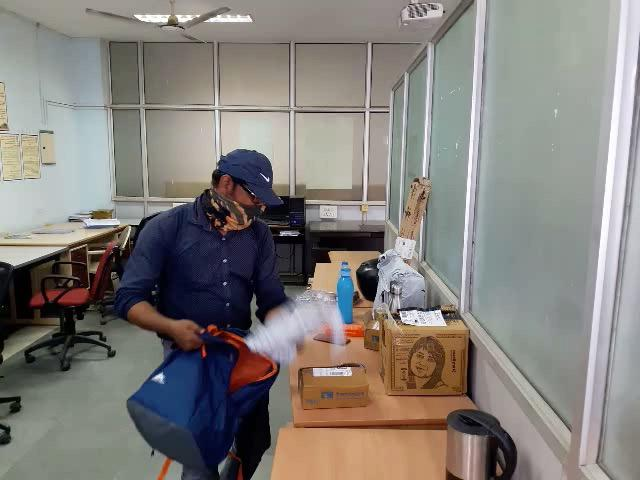shoplifting: (121, 287, 349, 473)
